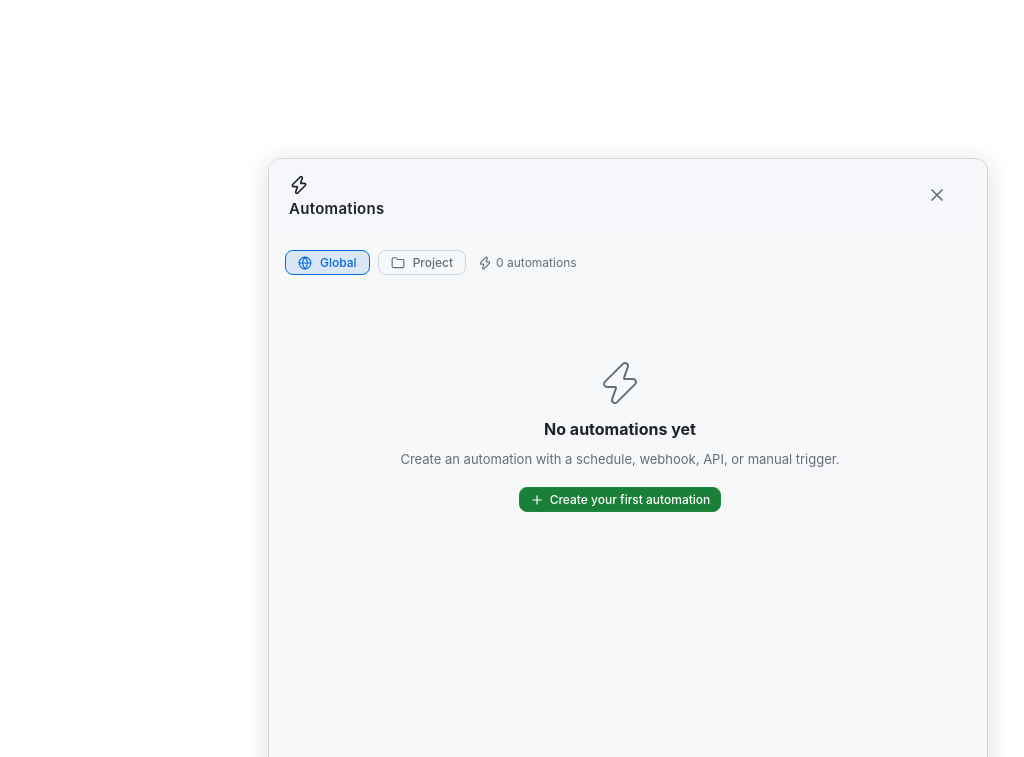
it: ScheduledTasksModal › opens the routine editor from the empty state
Click the button "Create your first automation": (620, 500) left=519, top=487, right=721, bottom=512
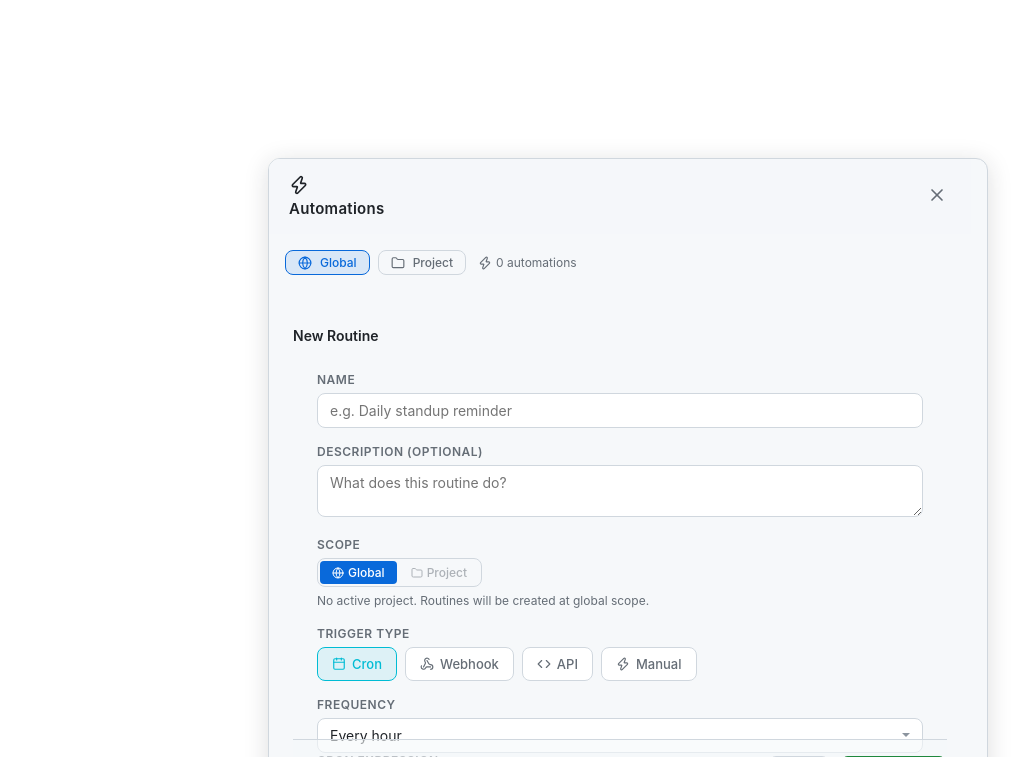
Check: the heading "New Routine" is shown, box left=293, top=327, right=378, bottom=344
Check: the field labelled "Name" is shown, box left=317, top=393, right=923, bottom=428
